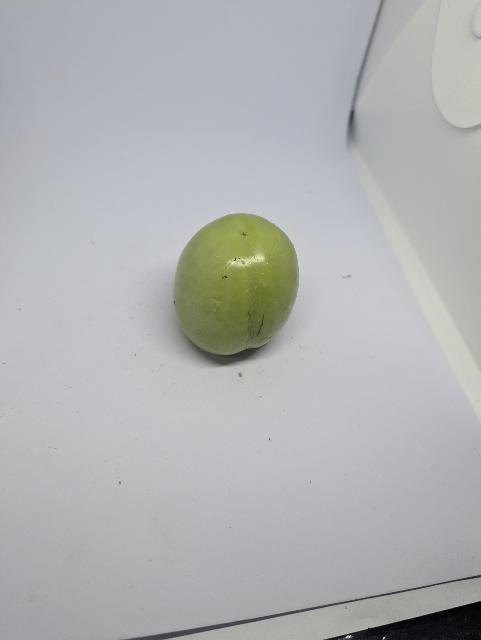green: (169, 197, 307, 360)
